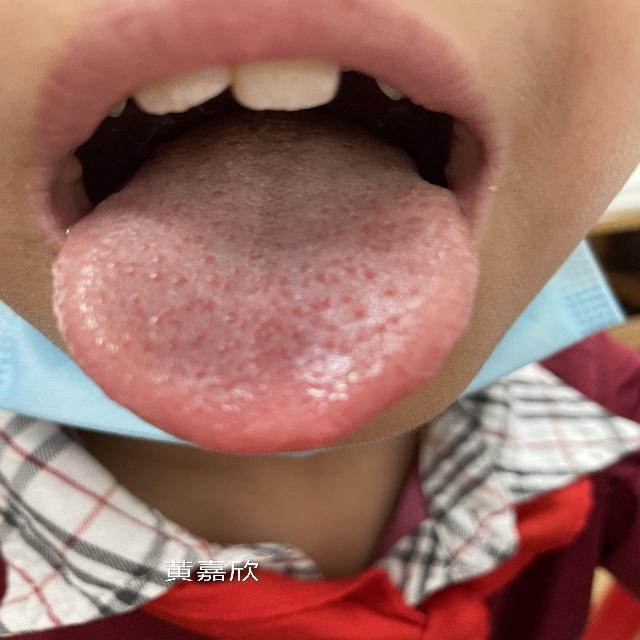baitaishe: (51, 112, 476, 455)
hongdianshe: (147, 268, 162, 283), (338, 290, 352, 305), (352, 305, 365, 319), (124, 262, 136, 275), (130, 291, 140, 305), (138, 240, 148, 252)
